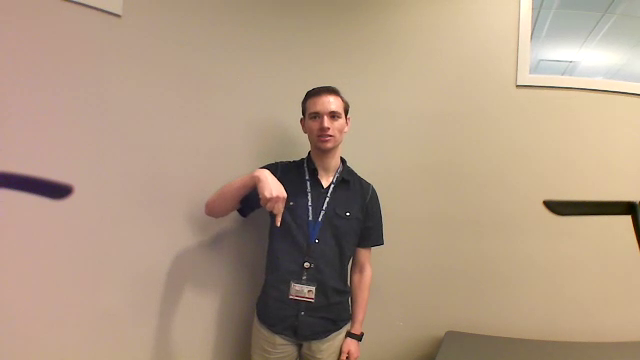down: (245, 163, 292, 232)
